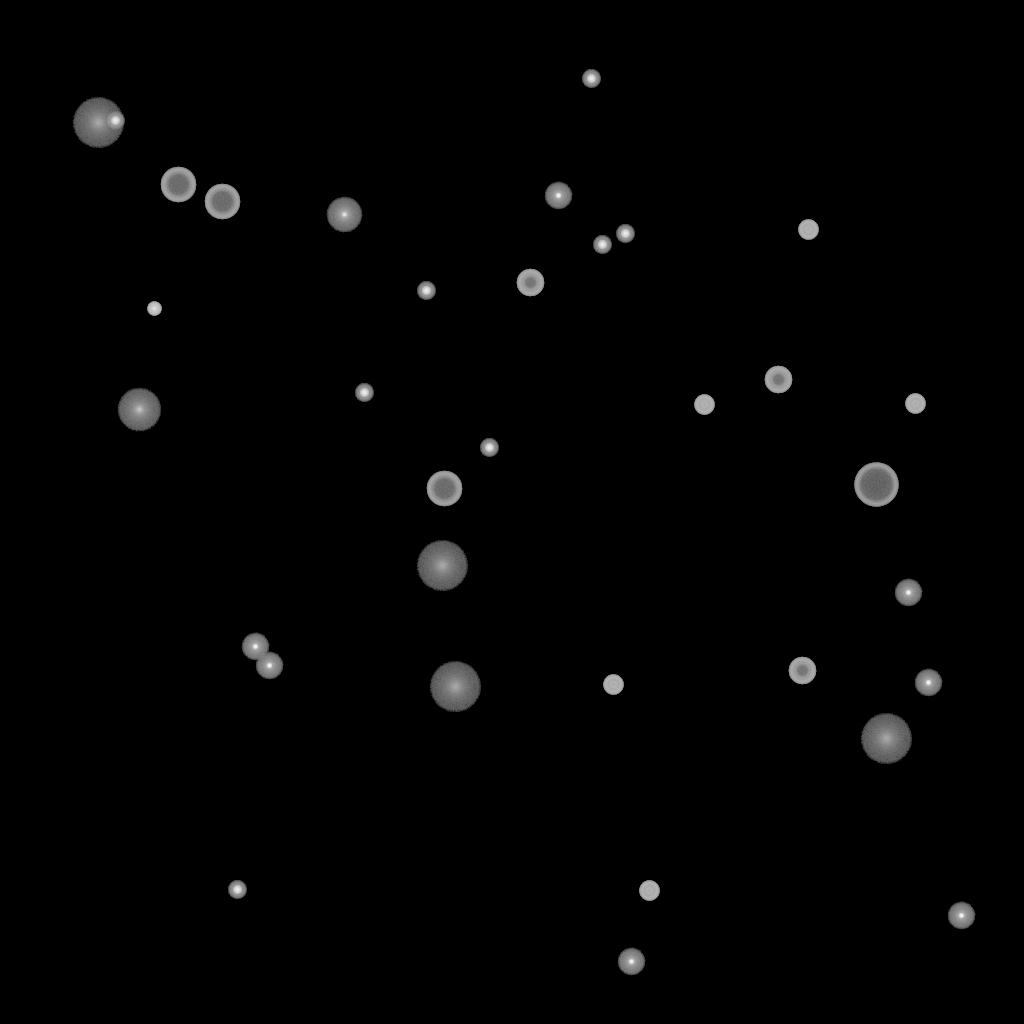depth:-10: (947, 902, 975, 930), (241, 633, 269, 661), (914, 669, 942, 697), (544, 182, 572, 210), (617, 948, 645, 976), (255, 652, 283, 680), (894, 579, 922, 607)
depth:-20: (616, 225, 634, 243), (480, 439, 498, 457), (582, 70, 600, 88), (417, 282, 435, 300), (106, 112, 124, 130), (593, 236, 611, 254), (228, 881, 246, 899), (355, 384, 373, 402)
depth:-30: (147, 302, 161, 316)
depth:-40: (603, 675, 623, 695), (798, 220, 818, 240), (905, 394, 925, 414), (694, 395, 714, 415), (639, 881, 659, 901)
depth:-50: (516, 269, 544, 297), (764, 366, 792, 394), (788, 657, 816, 685)
depth:-60: (204, 184, 240, 220), (426, 471, 462, 507), (160, 167, 196, 203)
depth:-70: (854, 463, 898, 507)
depth:0: (326, 197, 362, 233)
depth:10: (117, 388, 161, 432)
depth:20: (860, 714, 912, 764), (416, 541, 468, 591), (72, 98, 124, 148), (429, 662, 481, 712)
